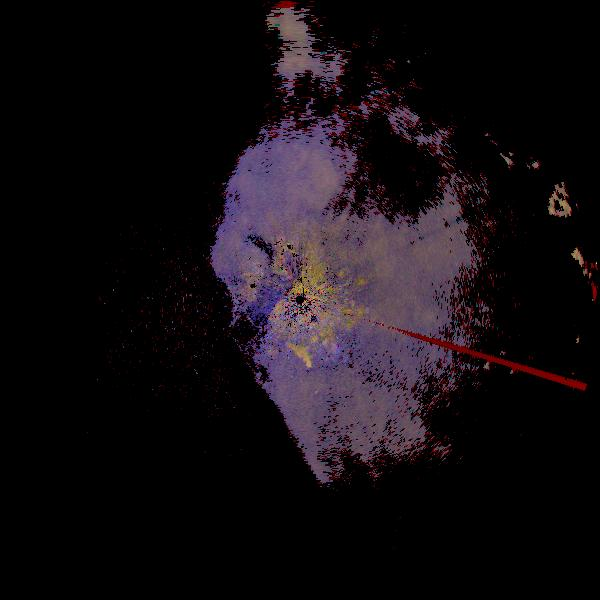roost: (263, 337, 323, 397), (327, 284, 381, 338), (302, 320, 347, 365)
